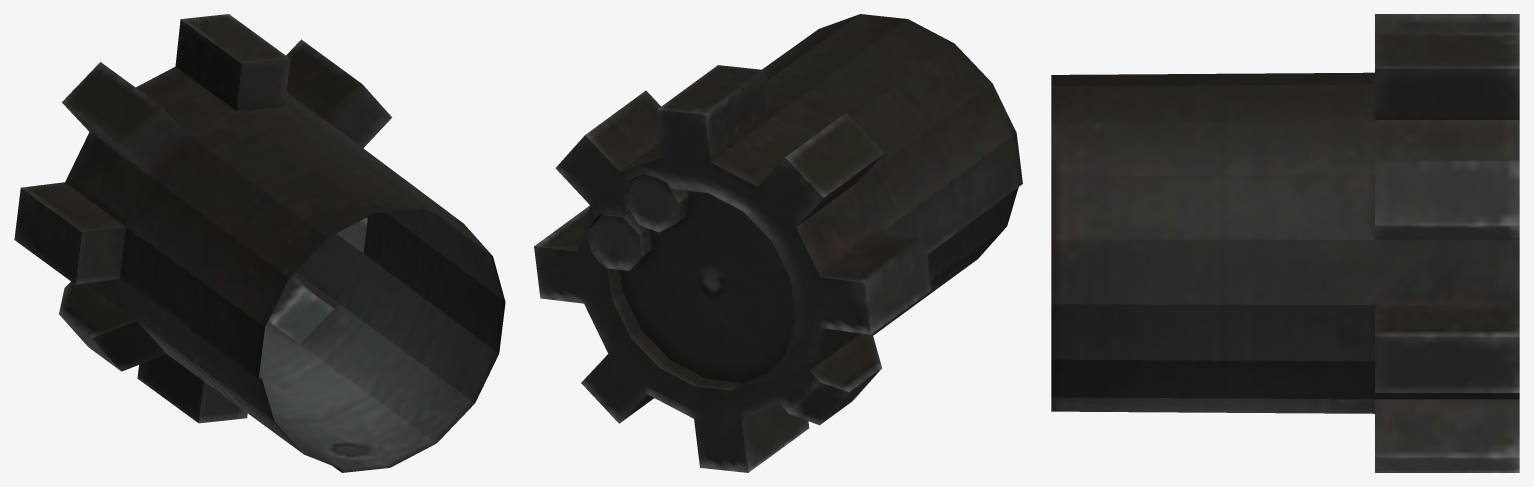
3 renders of one model, left to right at view 1: azimuth 30°, elevation 25°; view 2: azimuth 150°, elevation 25°; view 3: azimuth 270°, elevation 25°, orthographic. The views are drawn at different scales.
Visible parts, largest first — view 1: TW_5fc22d7c187fea44d52eda44_PZ_Import; view 2: TW_5fc22d7c187fea44d52eda44_PZ_Import; view 3: TW_5fc22d7c187fea44d52eda44_PZ_Import.
Part boxes in pixels (x1,y1,x2,y2): TW_5fc22d7c187fea44d52eda44_PZ_Import: [14, 14, 505, 472]; TW_5fc22d7c187fea44d52eda44_PZ_Import: [534, 14, 1022, 472]; TW_5fc22d7c187fea44d52eda44_PZ_Import: [1051, 14, 1519, 472].
Size of the model in its own units: 0.0154 by 0.0157 by 0.0155.
Materials: 1 (1 with a texture image).
